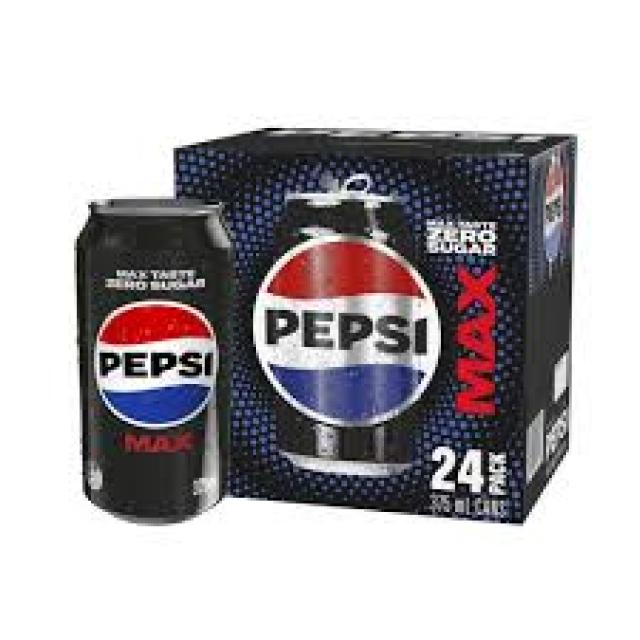Cans: (65, 185, 239, 532)
